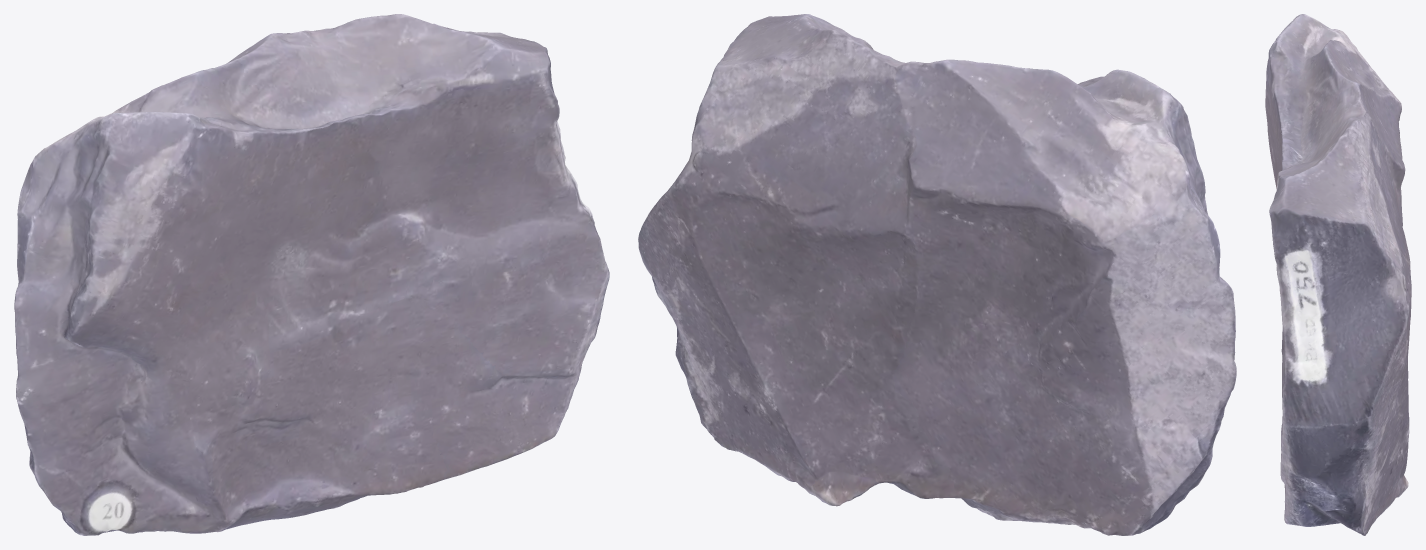
The model's file is bituminous_shale.glb.
3 views of the same model, side by side, from view 1: azimuth 30°, elevation 25°; view 2: azimuth 150°, elevation 25°; view 3: azimuth 270°, elevation 25° (orthographic). The views are drawn at different scales.
Visible parts, largest first — view 1: Object_2; view 2: Object_2; view 3: Object_2.
Part boxes in pixels (left/top/right/bottom): Object_2: left=14, top=14, right=609, bottom=535; Object_2: left=638, top=14, right=1236, bottom=535; Object_2: left=1265, top=14, right=1411, bottom=535.
Bounding box in the file's own units: 1.74 × 1.3 × 0.4637.
Materials: 1 (1 with a texture image).
